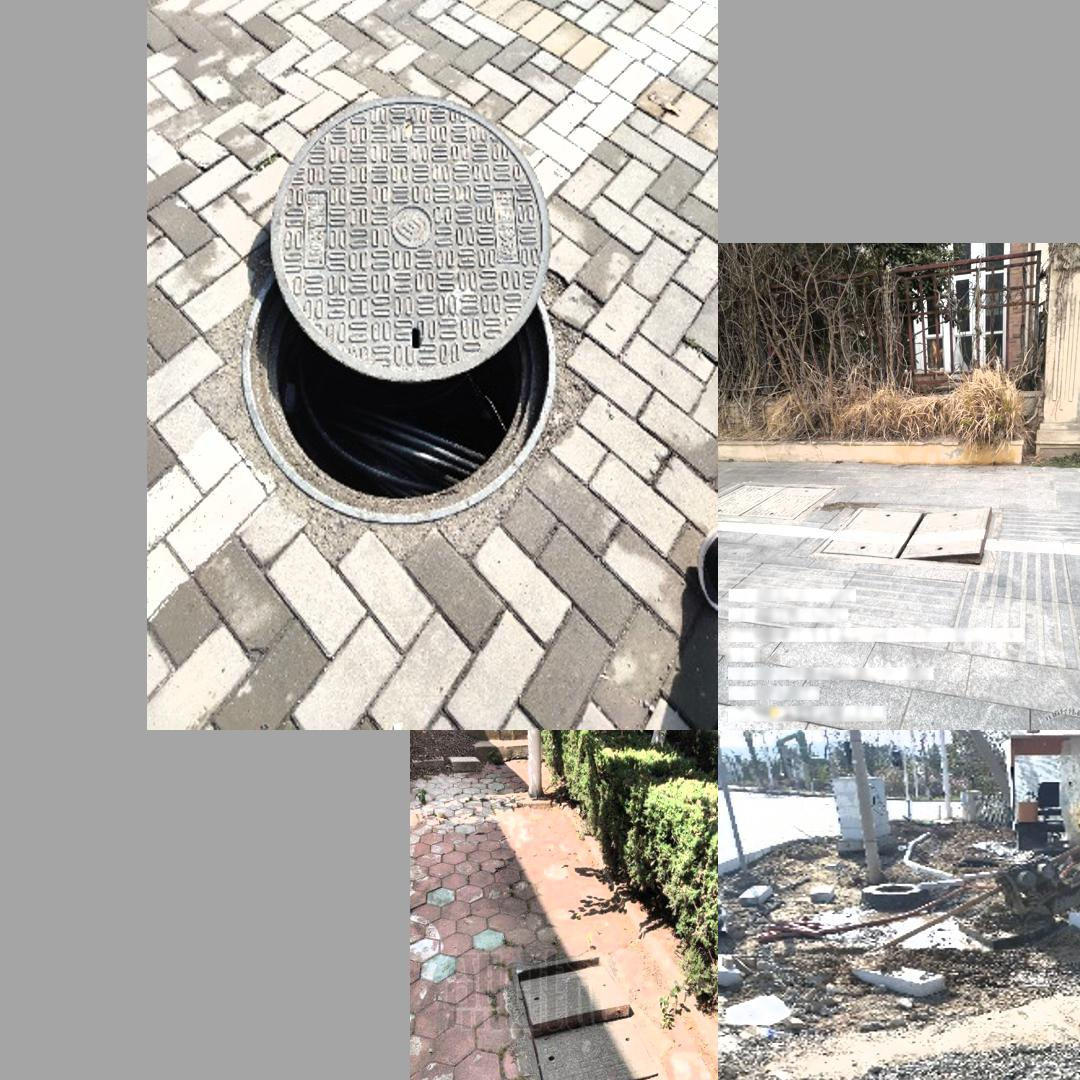good: (718, 482, 836, 523)
uncovered: (241, 107, 589, 520), (507, 950, 667, 1080), (813, 505, 1001, 571)
